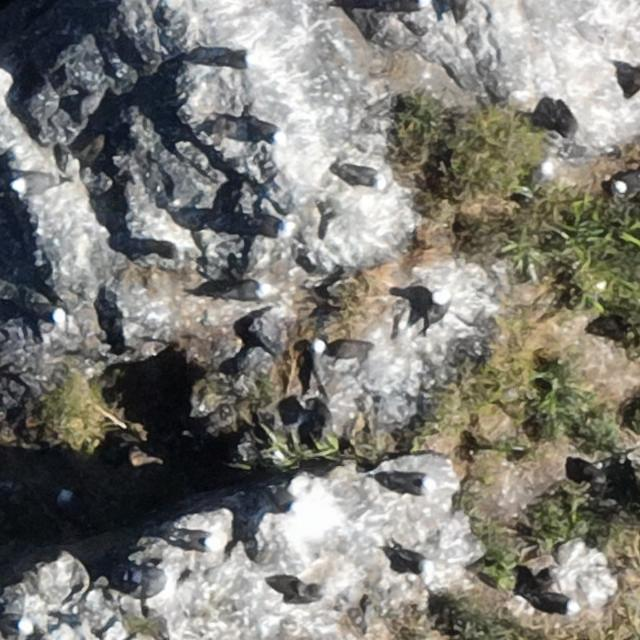umineko: (56, 489, 93, 527), (9, 170, 60, 196), (396, 546, 435, 577), (386, 472, 436, 496), (170, 531, 223, 552), (219, 44, 261, 70), (426, 291, 450, 333), (224, 281, 273, 300), (346, 169, 389, 189), (248, 122, 282, 142), (4, 615, 35, 635), (260, 218, 294, 236), (546, 596, 578, 615), (615, 169, 640, 191), (33, 305, 66, 321), (310, 338, 326, 370)
